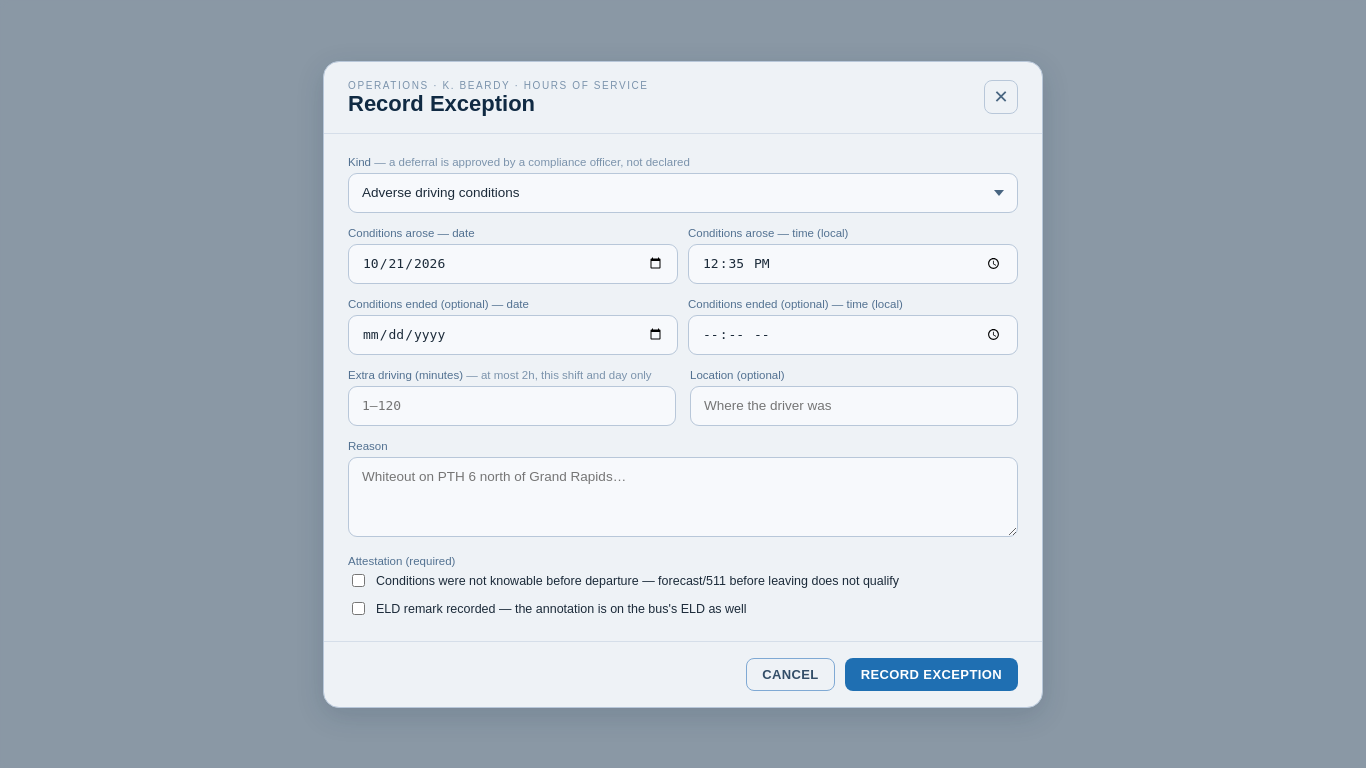
Test: HosExceptionModal — declare › shows the server's refusal verbatim
The width and height of the screenshot is (1366, 768).
Type "Whiteout" into the text box with placeholder "Whiteout on PTH 6 north of Grand Rapids…" at x=683, y=497, box [348,456,1018,537]
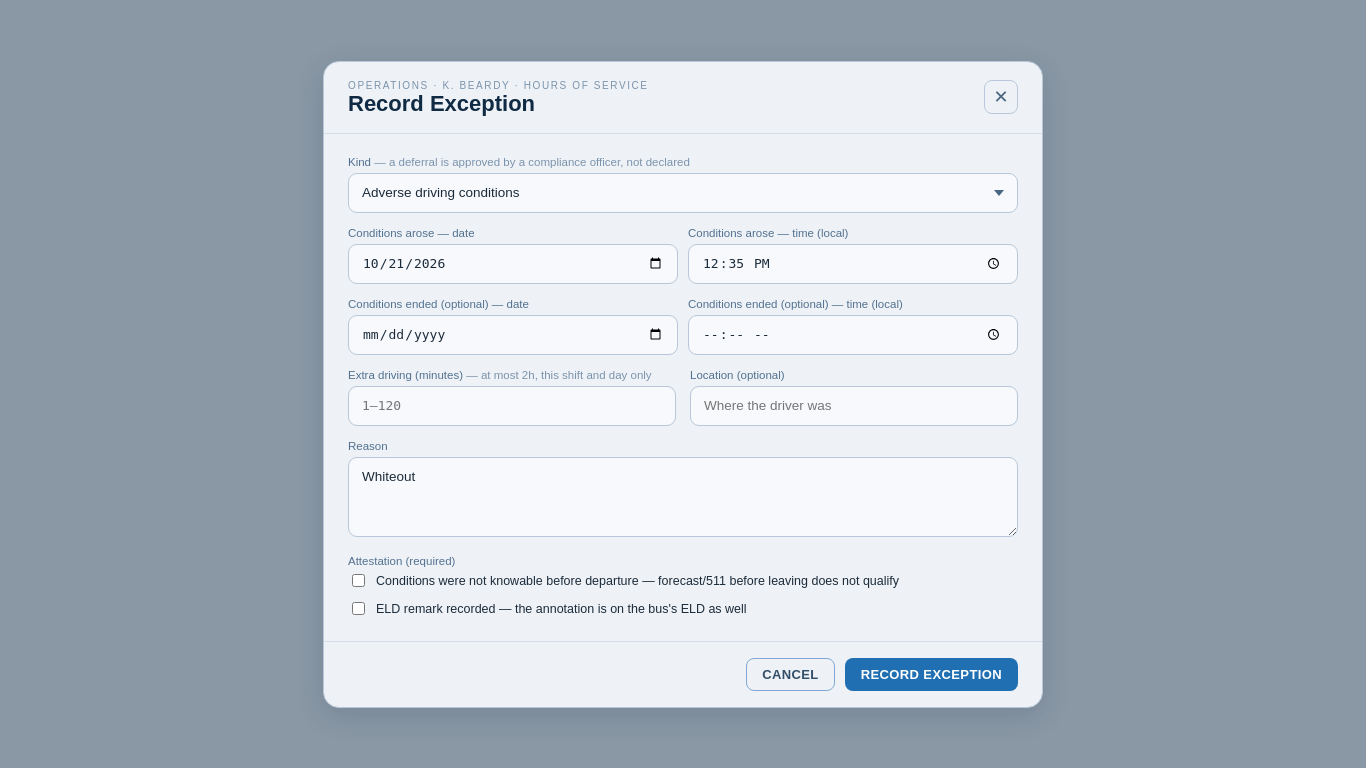
Type "30" into the number field with placeholder "1–120" at x=512, y=406, box [348,386,676,426]
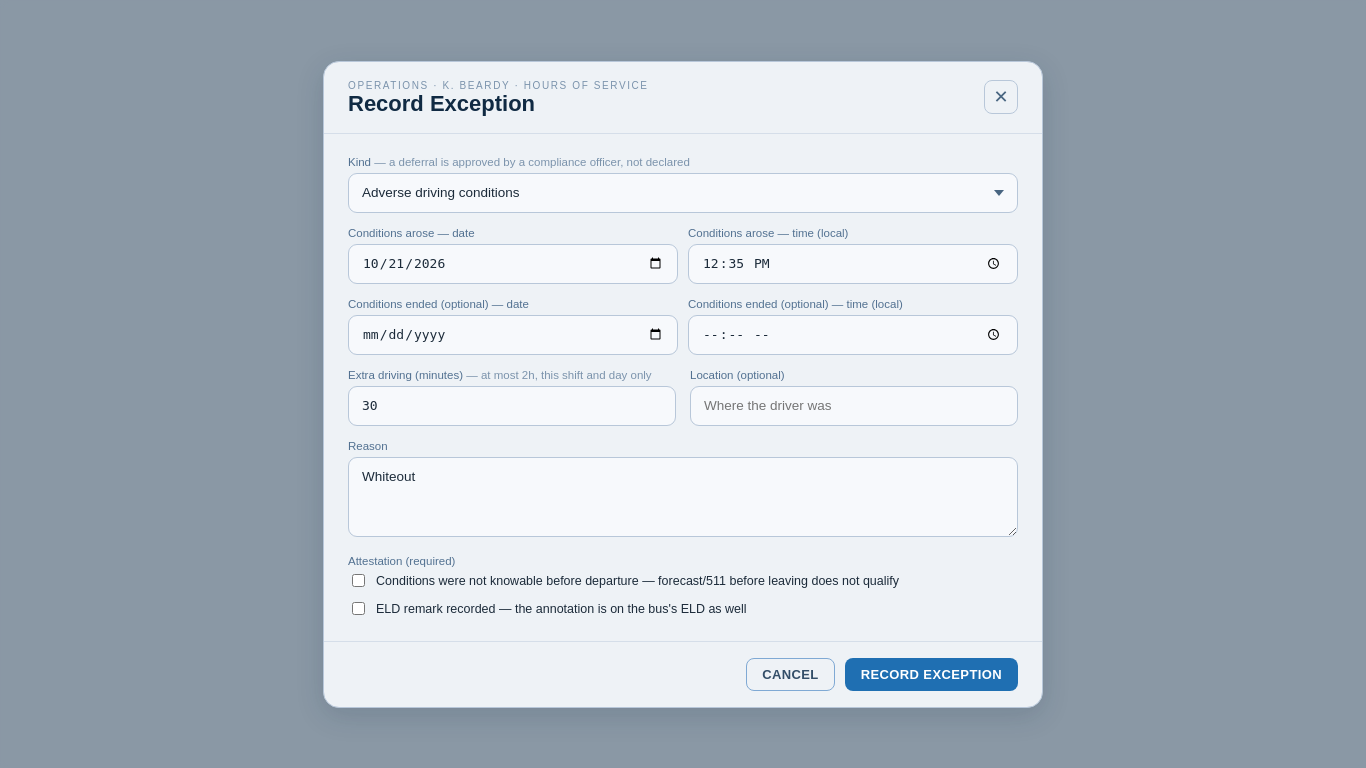
Click the 1st checkbox at x=358, y=581, box [352,574,365,587]
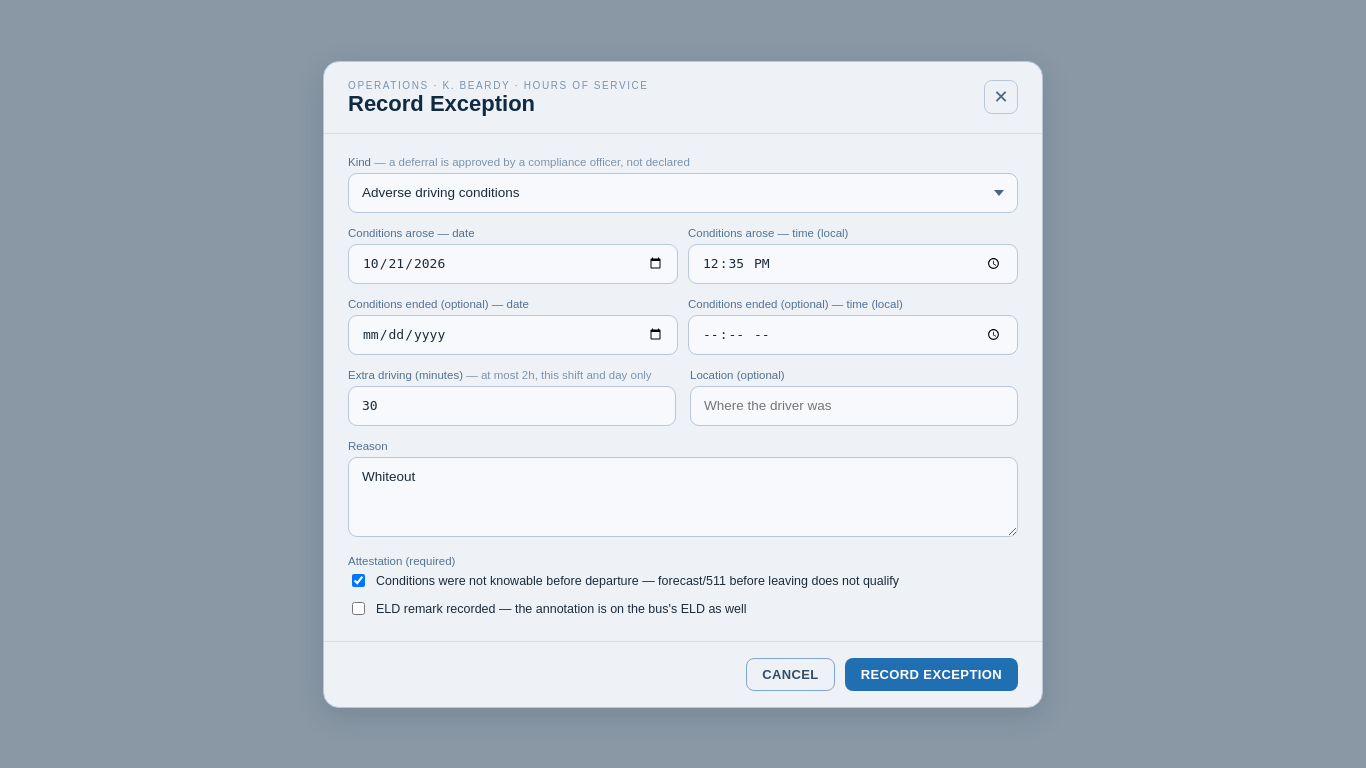
Click the text "RECORD EXCEPTION" at x=931, y=674, box [845,658,1018,690]
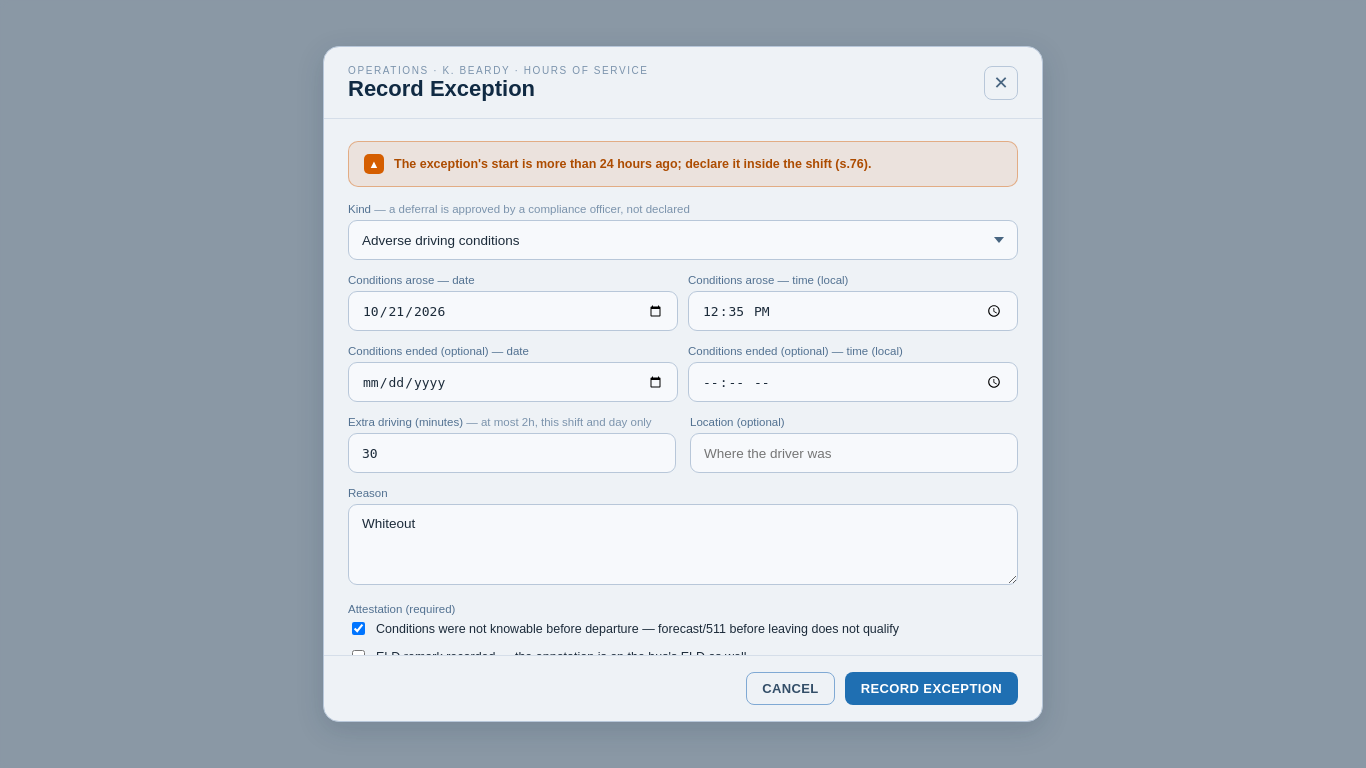
Now the text "The exception's start is more than 24 hours ago; declare it inside the shift (s.76)." is shown, box [394,157,871,171]
